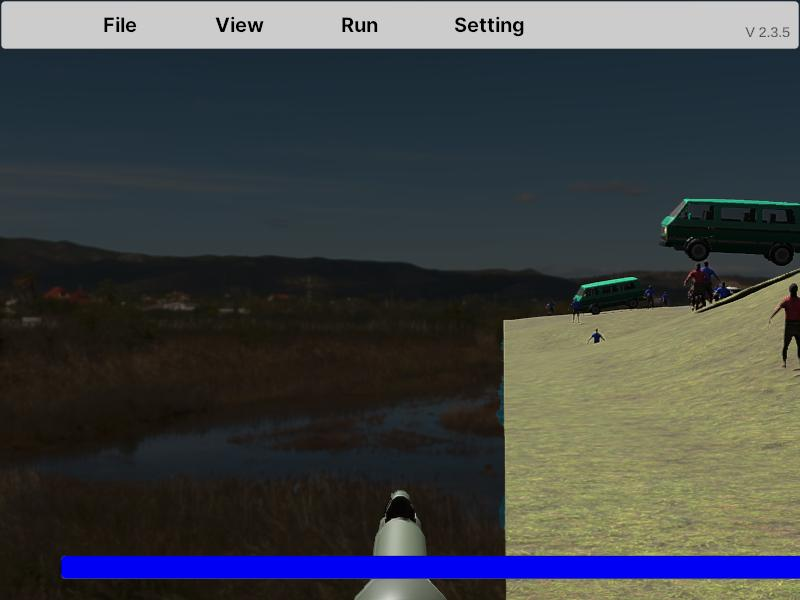Human: (768, 284, 800, 370)
car: (661, 199, 800, 267), (572, 277, 642, 316)
